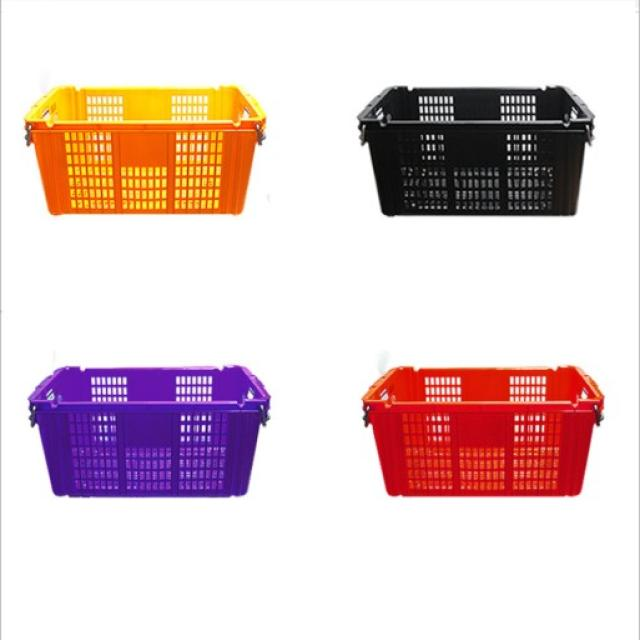basket: (28, 367, 271, 498), (25, 85, 266, 214), (364, 368, 605, 497), (359, 86, 595, 215)
